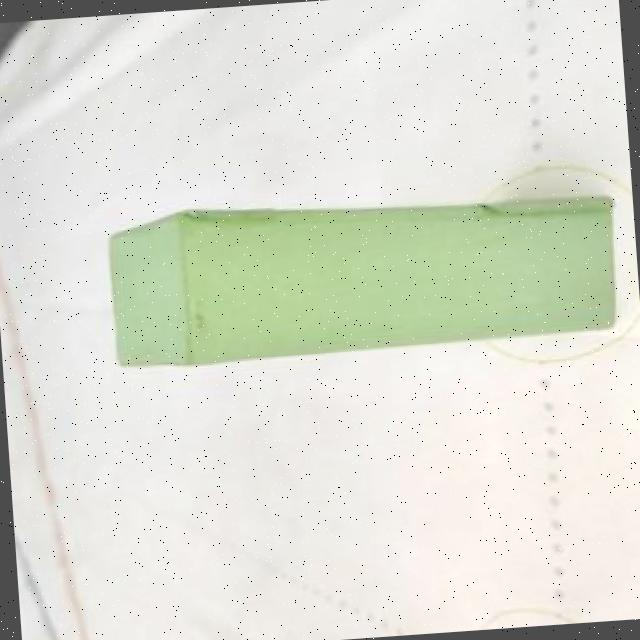greenbox: (100, 175, 621, 372)
